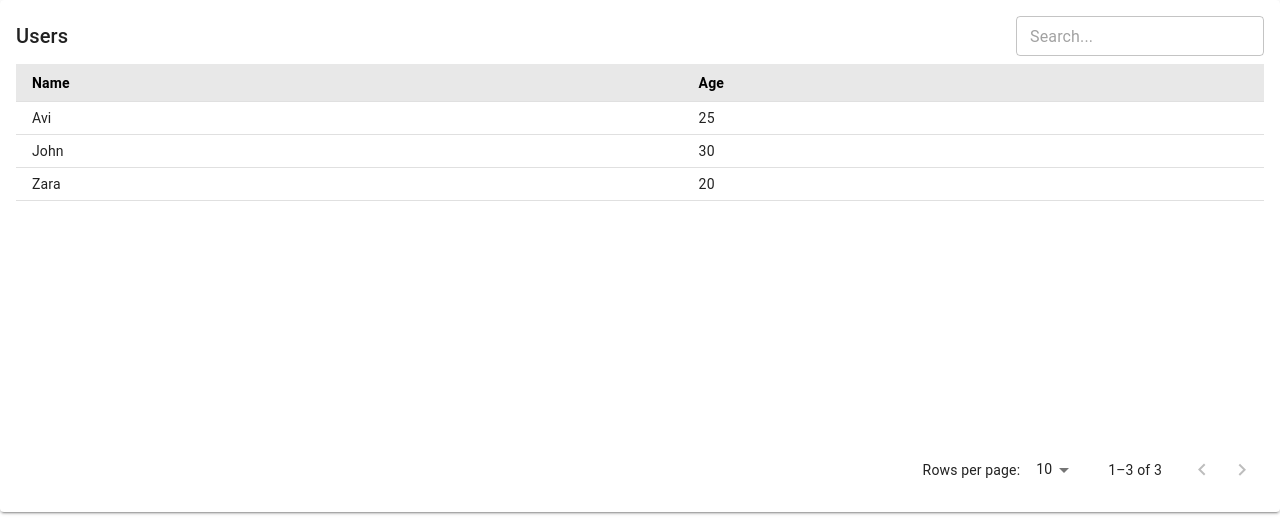
CustomTable › handles search input and filters data
The width and height of the screenshot is (1280, 532).
Type "Avi" into the field with placeholder "Search...". click: (1140, 36)
box: 1016,16 -> 1264,56
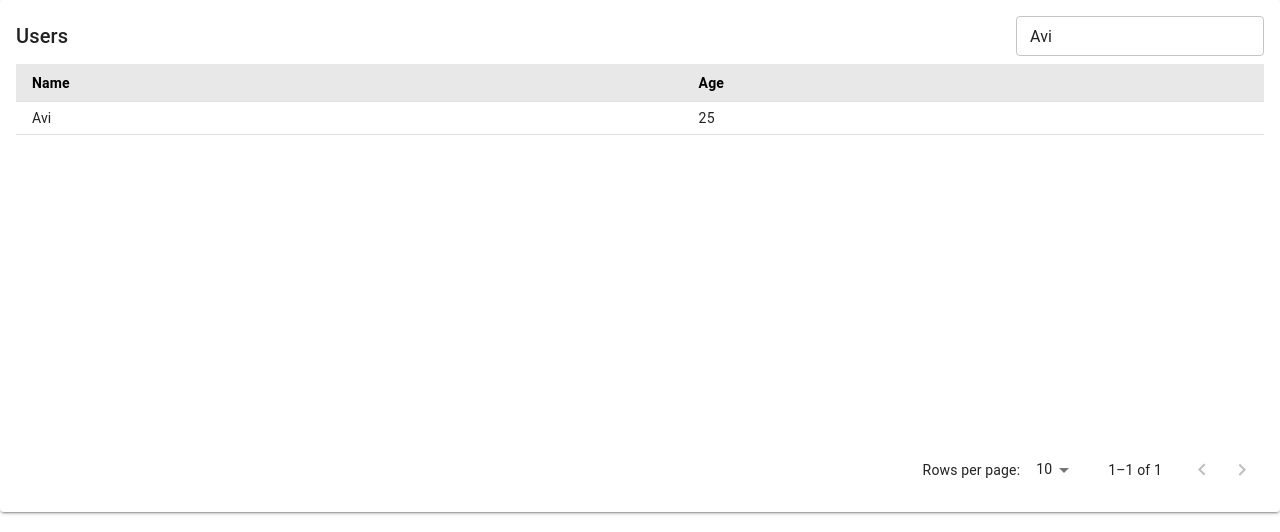
Expected: the text "Avi" is shown, 16,102 -> 683,135
Now the text "John" is gone
